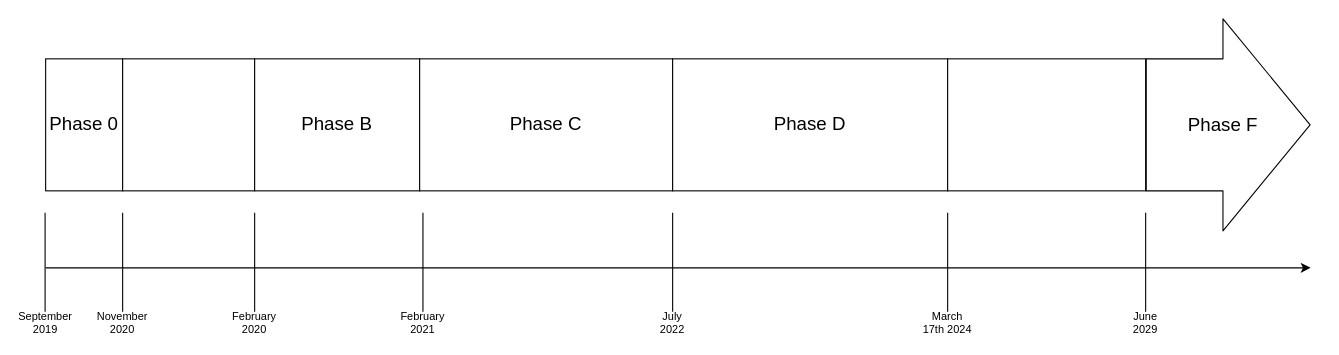
This 1339x355 diagram has some shape labels left out. Each missing label, with the box of its shape:
Phase A: (122, 58, 255, 191)
Phase E: (947, 58, 1146, 191)
